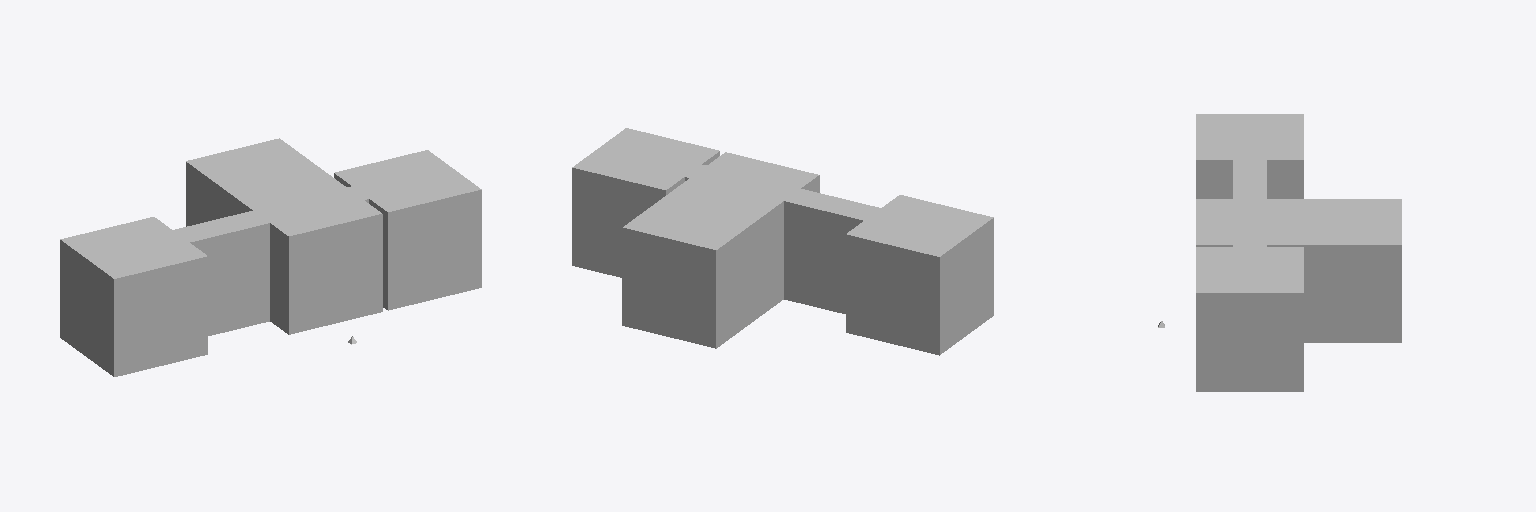
Rendered from TestLevel3_VisualMesh.obj.
3 renders of one model, left to right at view 1: azimuth 30°, elevation 25°; view 2: azimuth 150°, elevation 25°; view 3: azimuth 270°, elevation 25°, orthographic.
Parts seen in each view (by area): view 1: BasicTestLevelOpenTop:pCube6; view 2: BasicTestLevelOpenTop:pCube6; view 3: BasicTestLevelOpenTop:pCube6.
Boxes of the visible parts, x1,y1,x2,y2 form: BasicTestLevelOpenTop:pCube6: [60, 138, 481, 376]; BasicTestLevelOpenTop:pCube6: [572, 128, 993, 355]; BasicTestLevelOpenTop:pCube6: [1196, 114, 1401, 391].
Bounding box in the file's own units: 57.72 × 15.76 × 33.16.